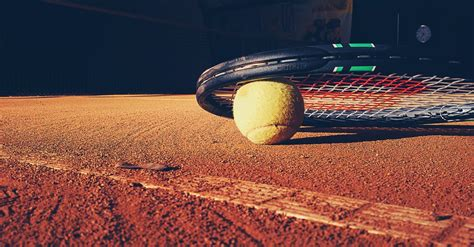tennis_ball: (233, 76, 305, 145)
